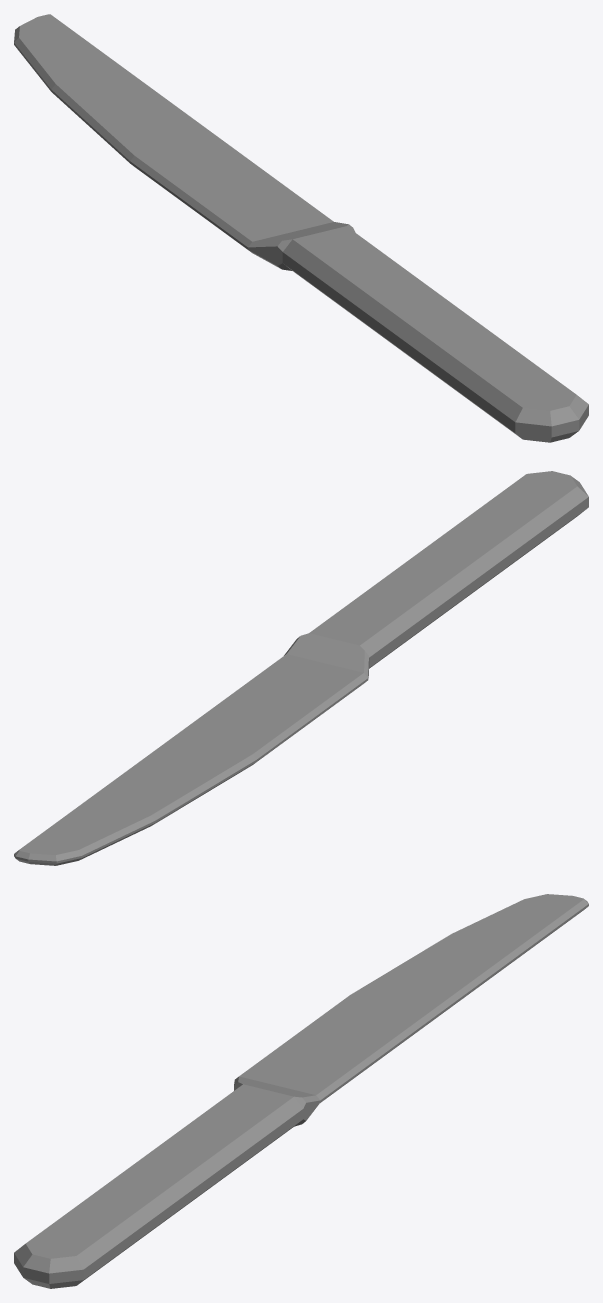
File: ButterKnife.fbx
3 renders of one model, top to bottom at view 1: azimuth 30°, elevation 25°; view 2: azimuth 150°, elevation 25°; view 3: azimuth 330°, elevation 25°, orthographic. The views are drawn at different scales.
Parts seen in each view (by area): view 1: ButterKnife; view 2: ButterKnife; view 3: ButterKnife.
Boxes of the visible parts, <box> form: ButterKnife: <box>14,14,588,442</box>; ButterKnife: <box>14,471,588,865</box>; ButterKnife: <box>14,894,588,1288</box>.
Bounding box in the file's own units: 0.0247 × 0.00829 × 0.2601.
Materials: 1 (1 with a texture image).
